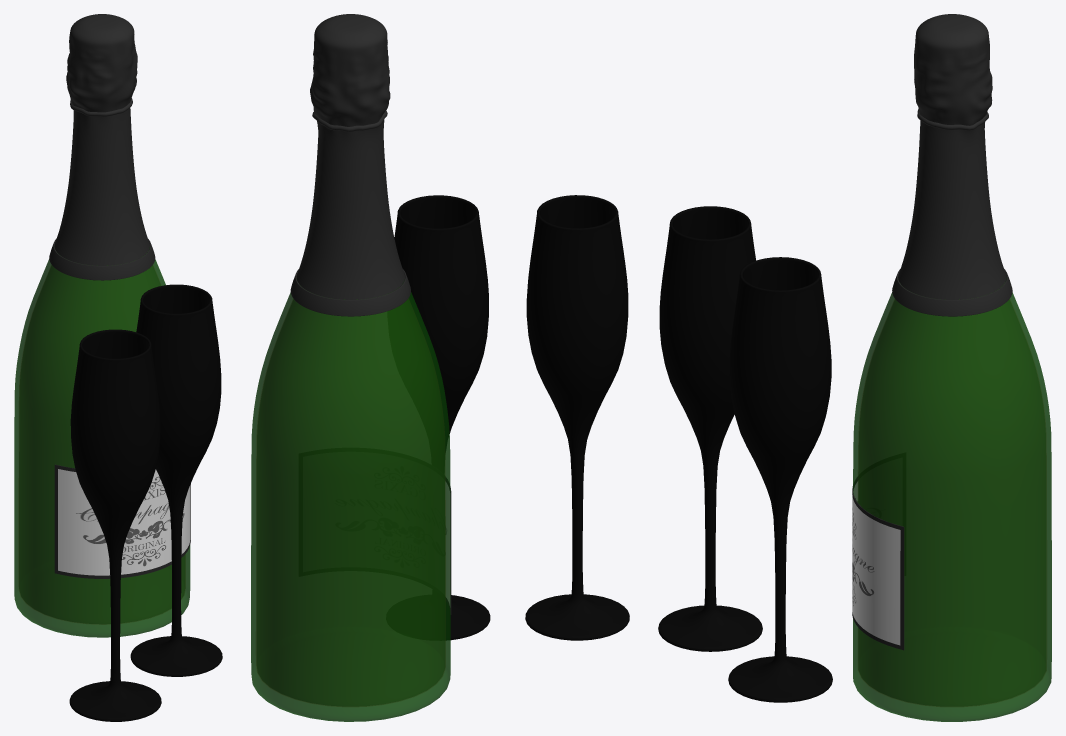
File: cgaxis_models_13_22_fbx.fbx
3 renders of one model, left to right at view 1: azimuth 30°, elevation 25°; view 2: azimuth 150°, elevation 25°; view 3: azimuth 270°, elevation 25°, orthographic. The views are drawn at different scales.
Visible parts, largest first — view 1: cgaxis_models_13_22_05, cgaxis_models_13_22_03, cgaxis_models_13_22_02 (×2), cgaxis_models_13_22_06; view 2: cgaxis_models_13_22_03, cgaxis_models_13_22_05, cgaxis_models_13_22_02 (×2); view 3: cgaxis_models_13_22_03, cgaxis_models_13_22_05, cgaxis_models_13_22_02 (×2), cgaxis_models_13_22_06.
Boxes of the visible parts, x1,y1,x2,y2 form: cgaxis_models_13_22_05: (69,284,222,721); cgaxis_models_13_22_03: (14,246,190,637); cgaxis_models_13_22_02 (×2): (49,14,190,578); cgaxis_models_13_22_06: (58,469,190,575); cgaxis_models_13_22_03: (251,278,450,721); cgaxis_models_13_22_05: (394,195,629,640); cgaxis_models_13_22_02 (×2): (290,14,451,614); cgaxis_models_13_22_03: (853,277,1051,721); cgaxis_models_13_22_05: (658,206,832,702); cgaxis_models_13_22_02 (×2): (852,14,1012,650); cgaxis_models_13_22_06: (852,482,900,645).
Size of the model in its own units: 3.92 by 10.41 by 5.63.
Materials: 6 (1 with a texture image).
